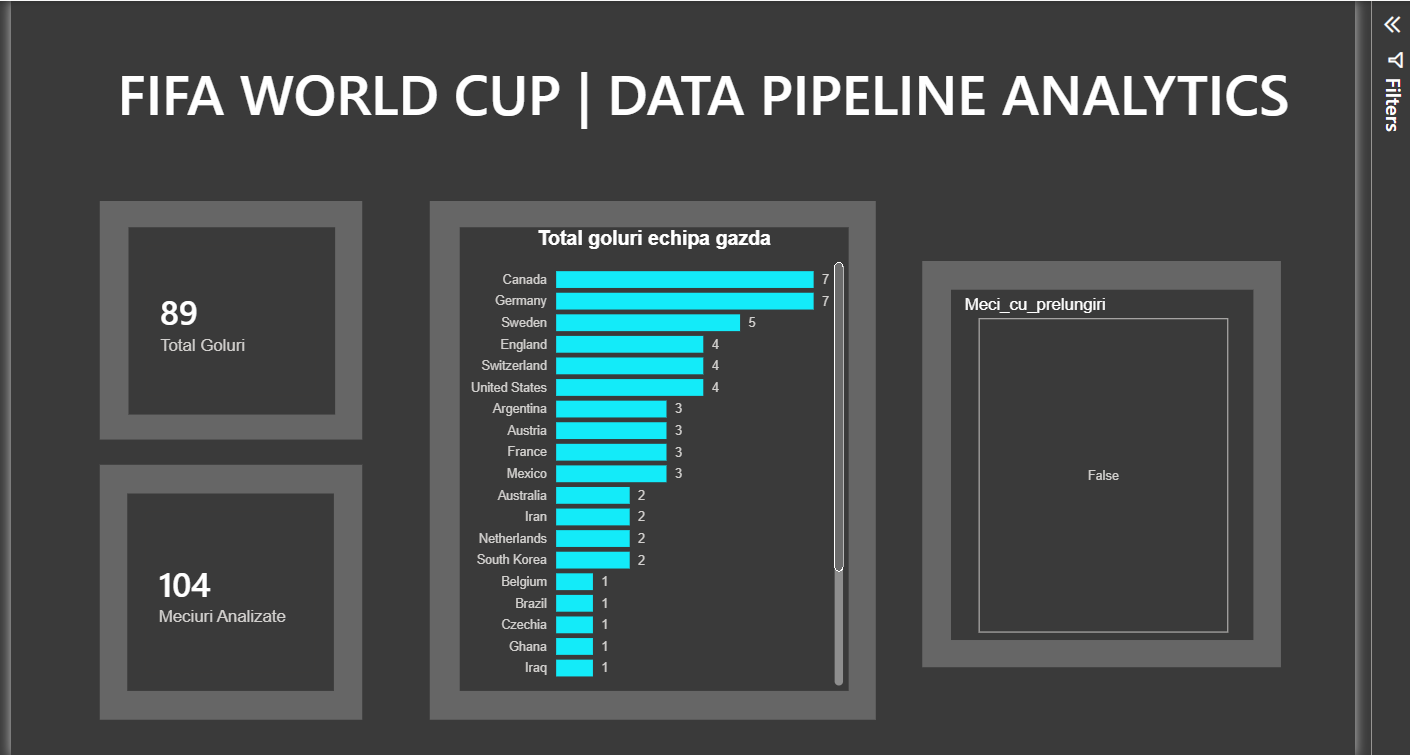

Layout of this report page (visuals, bound fields, positions):
{"tool":"powerbi","page":{"name":"Page 1","canvas":[1280,720],"ordinal":0},"visuals":[{"type":"shape","box":[867.9,247.6,341.7,386.9],"z":0},{"type":"shape","box":[398.8,190.5,425,494.1],"z":1000},{"type":"shape","box":[84.5,441.7,250,242.9],"z":2000},{"type":"shape","box":[84.5,190.5,250,227.4],"z":3000},{"type":"cardVisual","fields":{"Data":["Sum(public meciuri_world_cup.eficienta_atac)"]},"box":[111.9,215.5,196.4,178.6],"z":4000},{"type":"cardVisual","fields":{"Data":["Count(public meciuri_world_cup.id_meci)"]},"box":[110.7,469.1,196.4,188.1],"z":5000},{"type":"clusteredBarChart","title":"Total goluri echipa gazda ","fields":{"Category":["public meciuri_world_cup.echipa_gazda"],"Y":["Sum(public meciuri_world_cup.goluri_gazda)"]},"box":[427.4,215.5,370.2,441.7],"z":6000},{"type":"slicer","fields":{"Values":["public meciuri_world_cup.meci_cu_prelungiri"]},"box":[895.2,275,288.1,333.3],"z":7000},{"type":"textbox","box":[39.3,14.3,1240.5,167.9],"z":8000}]}

Visuals, with their boxes on the page's 1280x720 design canvas (x1, y1, x2, y2). These are canvas units, not pixel positions in the 1410x755 screenshot, which may show the page scaled, cropped or inside an application window:
shape: <box>868,248,1210,634</box>
shape: <box>399,190,824,685</box>
shape: <box>84,442,334,685</box>
shape: <box>84,190,334,418</box>
cardVisual - Sum(public meciuri_world_cup.eficienta_atac): <box>112,216,308,394</box>
cardVisual - Count(public meciuri_world_cup.id_meci): <box>111,469,307,657</box>
"Total goluri echipa gazda " clusteredBarChart: <box>427,216,798,657</box>
slicer - public meciuri_world_cup.meci_cu_prelungiri: <box>895,275,1183,608</box>
textbox: <box>39,14,1280,182</box>
